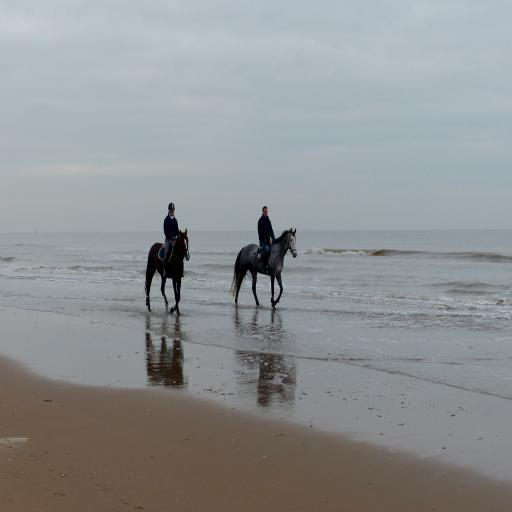horse: (227, 227, 297, 312), (145, 227, 191, 315)
